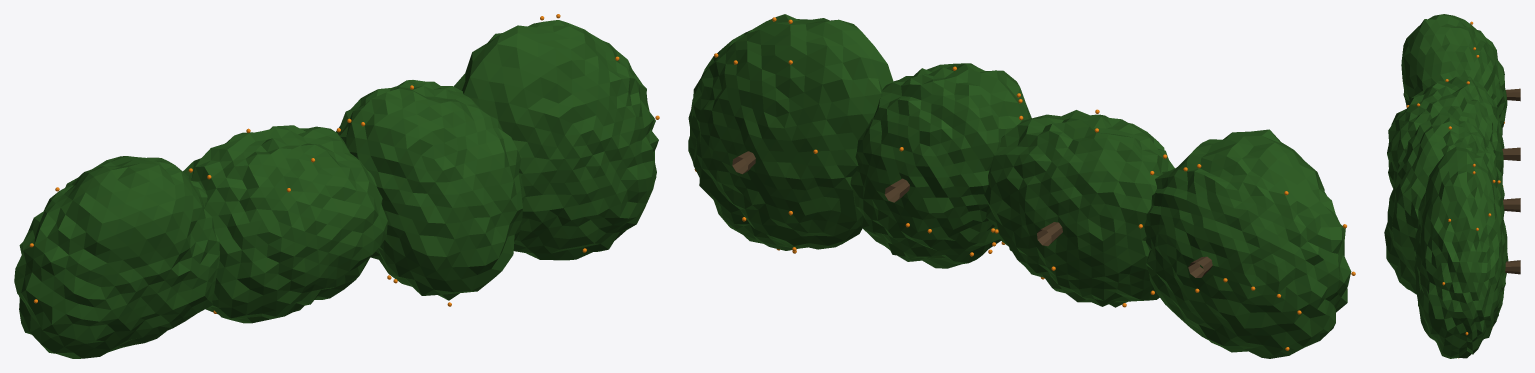
The model's file is citrus_run4_a_fruit.obj.
The picture shows the model from 3 angles, left to right: view 1: azimuth 30°, elevation 25°; view 2: azimuth 150°, elevation 25°; view 3: azimuth 270°, elevation 25°; orthographic projection. The views are drawn at different scales.
Visible parts, largest first — view 1: canopy; view 2: canopy, trunk, fruit; view 3: canopy, trunk, fruit.
Boxes of the visible parts, <box> form: canopy: <box>14,20,658,358</box>; canopy: <box>688,14,1351,358</box>; trunk: <box>732,151,1212,277</box>; fruit: <box>694,17,1355,350</box>; canopy: <box>1384,14,1508,358</box>; trunk: <box>1502,88,1520,274</box>; fruit: <box>1406,21,1504,358</box>.
Bounding box in the file's own units: 12.77 × 4.62 × 3.1.
